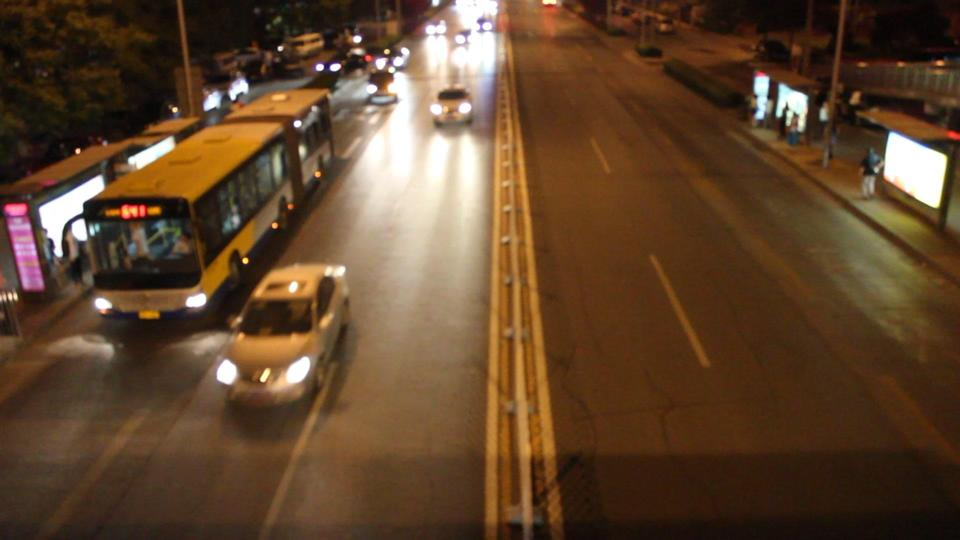bus: (61, 89, 335, 322)
car: (213, 261, 350, 412), (429, 83, 476, 128), (365, 69, 399, 106), (372, 47, 410, 70), (316, 52, 356, 73), (475, 11, 496, 32), (426, 15, 448, 34), (453, 27, 476, 45)
microbus: (284, 30, 324, 59)
